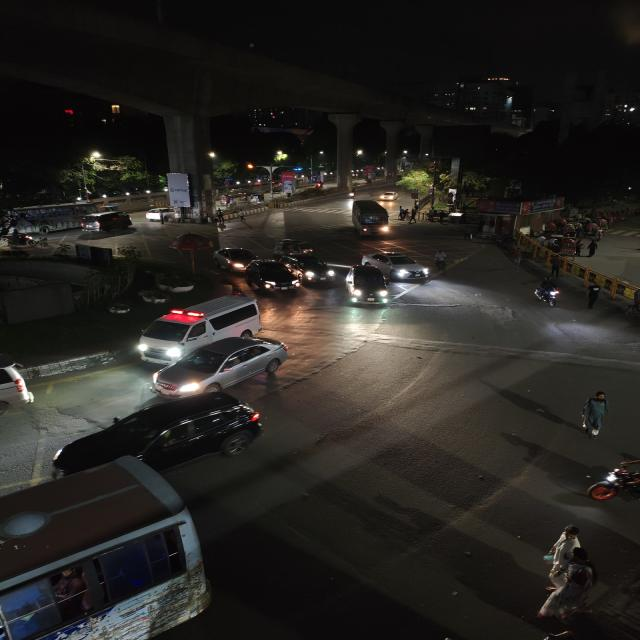bicycle: (432, 248, 450, 277)
bus: (0, 423, 211, 640), (0, 200, 86, 244)
car: (26, 388, 269, 486), (129, 293, 267, 363), (146, 334, 293, 398), (0, 352, 43, 435), (342, 264, 394, 308), (362, 249, 430, 281), (244, 259, 300, 295), (285, 253, 338, 284), (78, 210, 136, 232), (212, 247, 258, 272), (376, 190, 400, 202)
cng: (347, 199, 393, 239), (272, 238, 316, 256)
motorcycle: (582, 456, 640, 508), (531, 278, 564, 308), (345, 189, 358, 200)
pedestrian: (576, 387, 616, 441), (584, 281, 603, 309), (546, 253, 564, 279), (582, 238, 598, 258), (397, 206, 409, 222)
